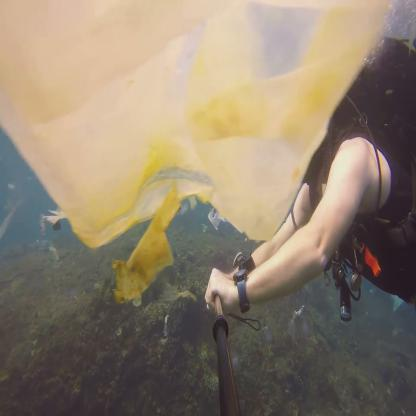Rác: (0, 0, 390, 219), (106, 208, 186, 294)
